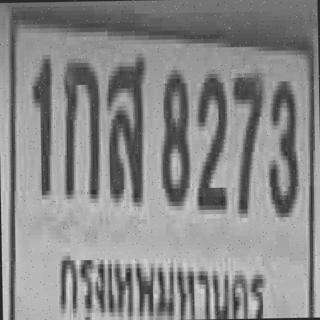A01: (62, 58, 98, 195)
A40: (105, 53, 146, 198)
N01: (31, 52, 52, 193)
N02: (194, 69, 226, 205)
N03: (266, 76, 297, 213)
N07: (231, 68, 263, 209)
N08: (158, 65, 189, 202)
P04: (57, 242, 272, 320)
